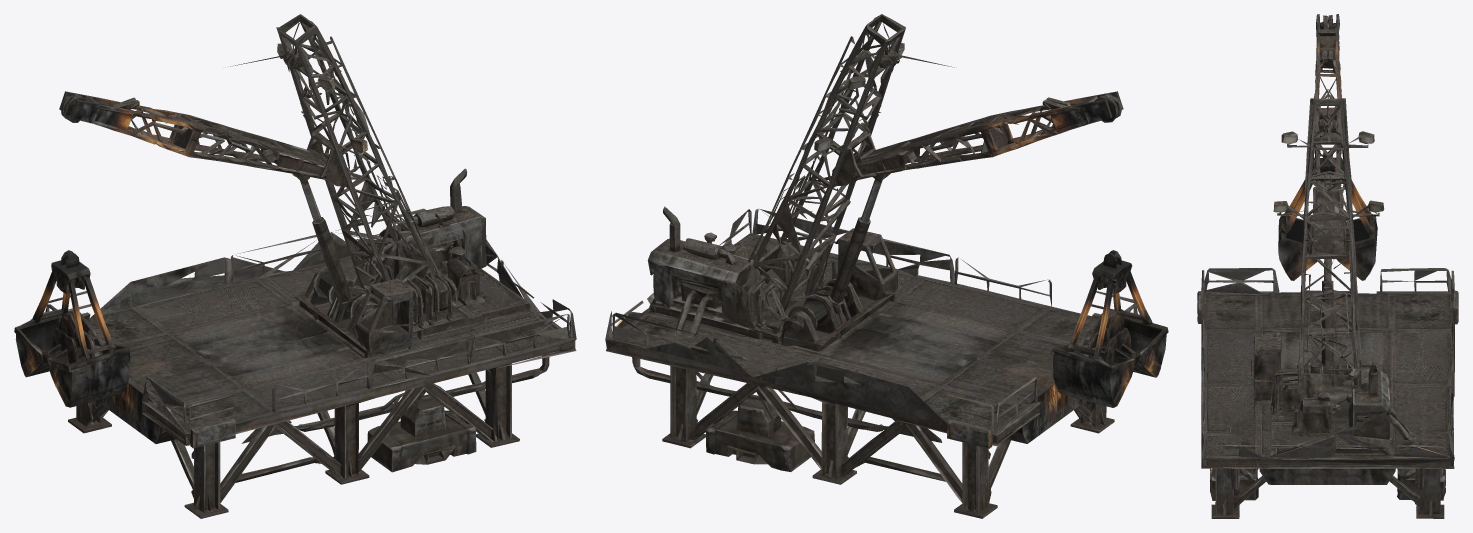
Rendered from lavacollector.glb.
The picture shows the model from 3 angles, left to right: view 1: azimuth 30°, elevation 25°; view 2: azimuth 150°, elevation 25°; view 3: azimuth 270°, elevation 25°; orthographic projection. The views are drawn at different scales.
Visible parts, largest first — view 1: lavacollector-centred; view 2: lavacollector-centred; view 3: lavacollector-centred.
Part boxes in pixels (box(x1,y1,x2,y2)): lavacollector-centred: box(14, 14, 576, 518); lavacollector-centred: box(605, 14, 1168, 518); lavacollector-centred: box(1197, 14, 1458, 518).
Bounding box in the file's own units: 16 × 13.49 × 8.93.
1 material, 1 textured.
